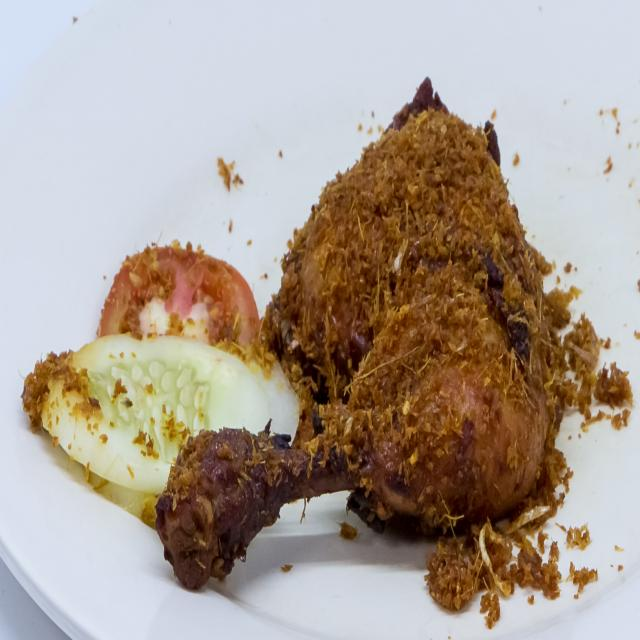Ayam-Goreng-Lengkuas: (140, 49, 578, 604)
